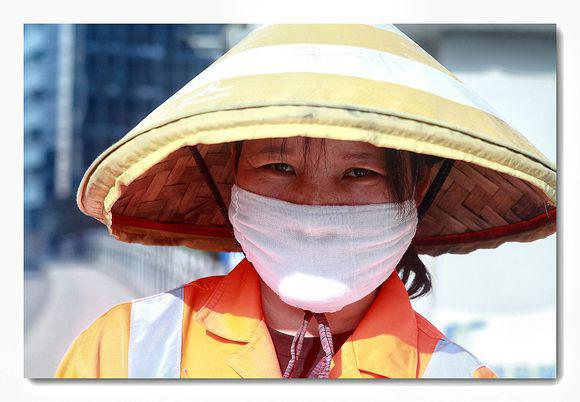OK: (230, 128, 416, 314)
